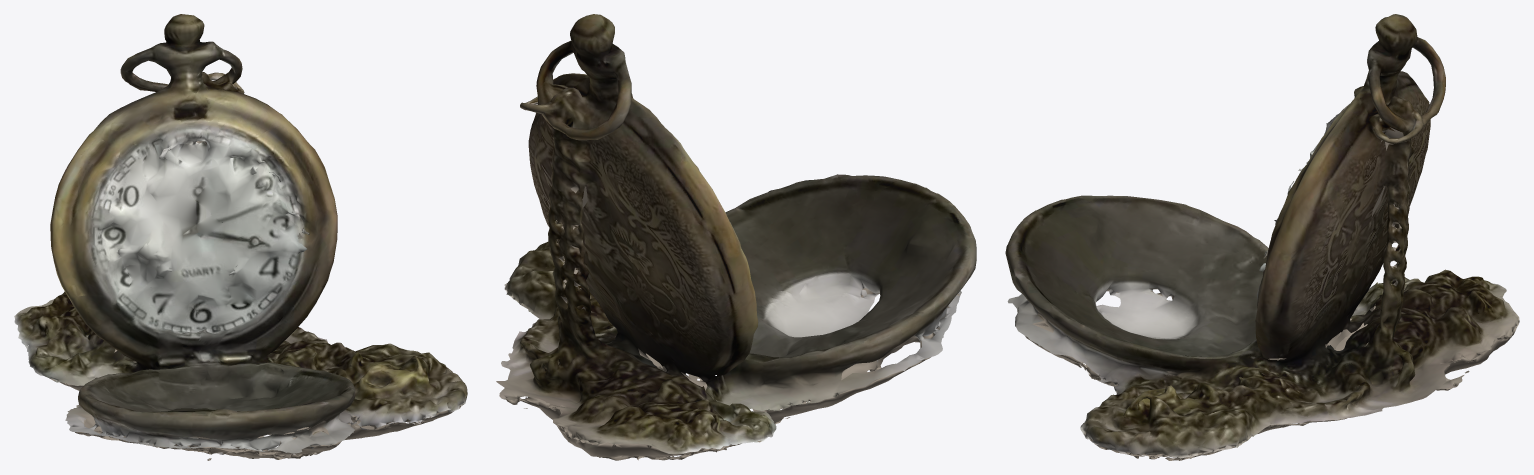
Rendered from 3D_Watch.fbx.
The picture shows the model from 3 angles, left to right: view 1: azimuth 30°, elevation 25°; view 2: azimuth 150°, elevation 25°; view 3: azimuth 270°, elevation 25°; orthographic projection. The views are drawn at different scales.
Visible parts, largest first — view 1: mesh_lowpoly; view 2: mesh_lowpoly; view 3: mesh_lowpoly.
Boxes of the visible parts, x1,y1,x2,y2 form: mesh_lowpoly: (14, 14, 467, 460); mesh_lowpoly: (496, 14, 976, 460); mesh_lowpoly: (1005, 14, 1519, 460).
Bounding box in the file's own units: 108 × 103 × 120.
Materials: 9 (9 with a texture image).
